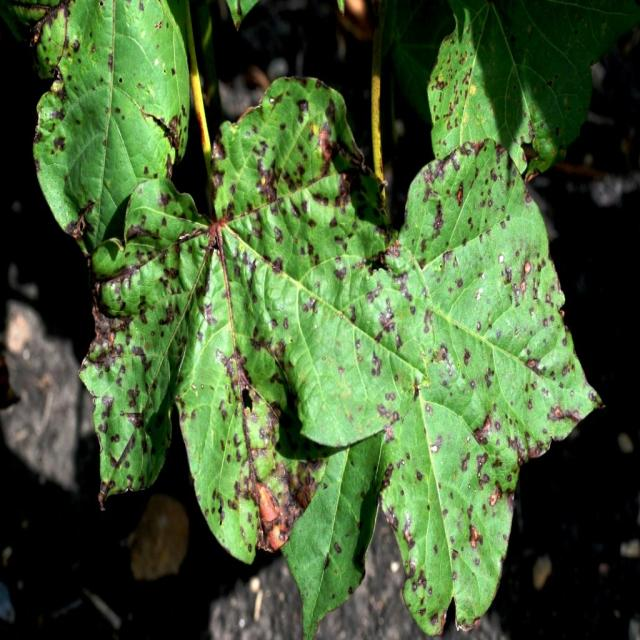Bacterial Blight: (220, 85, 411, 349), (95, 196, 226, 483), (182, 343, 328, 549)
